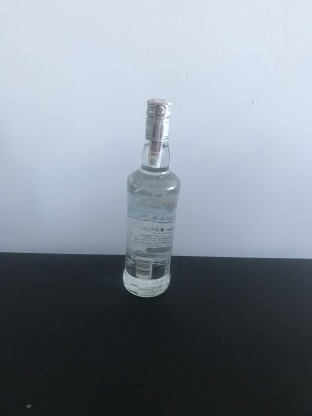nakretka: (143, 95, 174, 144)
